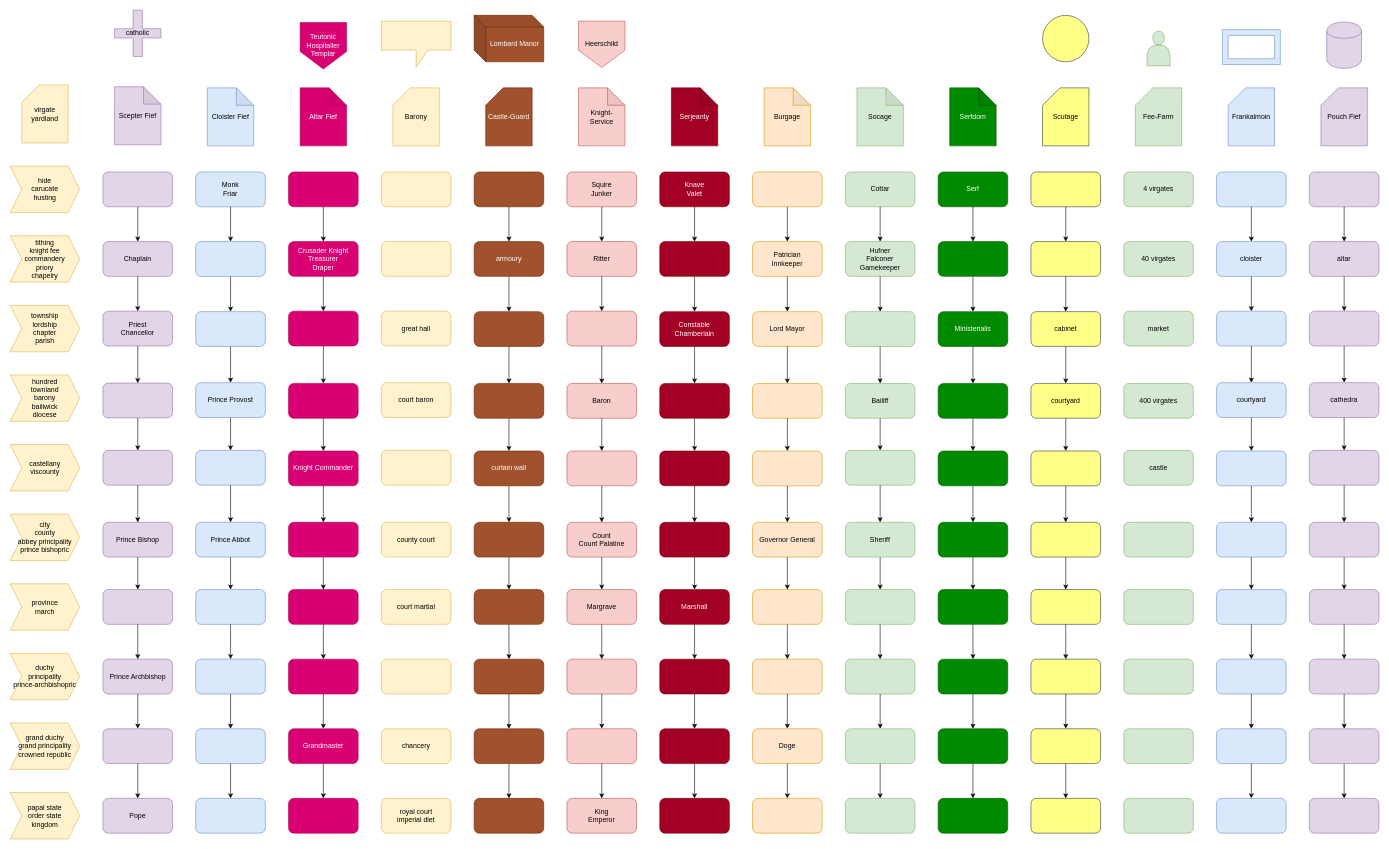
Image size: 1389x849. Some labels were removed from this diagram. Each missing label, with the box of its shape:
Bishop Archbishop Cardinal: (102, 383, 173, 418)
Burgher: (752, 171, 822, 207)
Burgrave: (566, 450, 637, 486)
Crusader Sergeant Chaplain Brother: (288, 171, 358, 207)
Duke Prince: (566, 659, 637, 694)
Florin: (1042, 15, 1089, 62)
font: (1309, 311, 1379, 346)
Grand Duke Arch Duke: (566, 728, 637, 764)
guest hall workshop parlour: (1030, 241, 1101, 276)
House Commander: (288, 311, 358, 346)
keep: (474, 383, 544, 418)
Land Commander: (288, 522, 358, 557)
Lieutenant Governor: (752, 450, 822, 486)
Lord: (566, 311, 637, 346)
Lord Warden: (752, 383, 822, 418)
Master Commander: (288, 659, 358, 694)
outer wall: (474, 522, 544, 557)
Prior: (195, 241, 265, 276)
Provost Abbot: (195, 311, 265, 346)
Reeve: (845, 311, 915, 346)
Royal Court: (381, 21, 451, 68)
Sergeant-at-Arms Butler Panter: (659, 241, 729, 276)
vestry: (1216, 311, 1286, 346)
Vicar: (102, 171, 173, 207)
